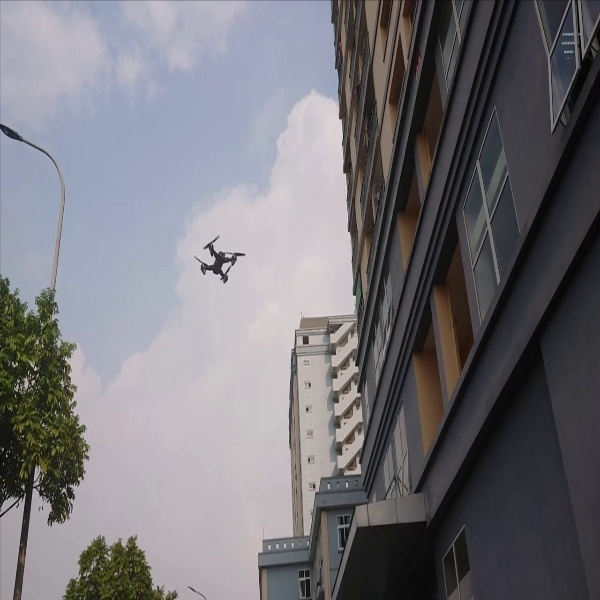drone: (192, 233, 247, 291)
